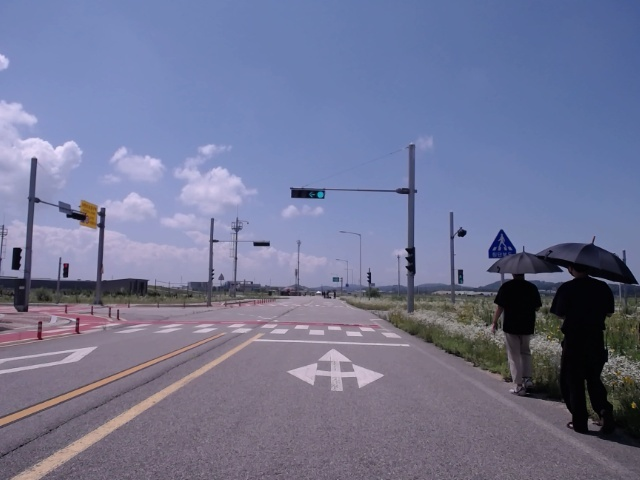all_green_4: (287, 186, 329, 199)
